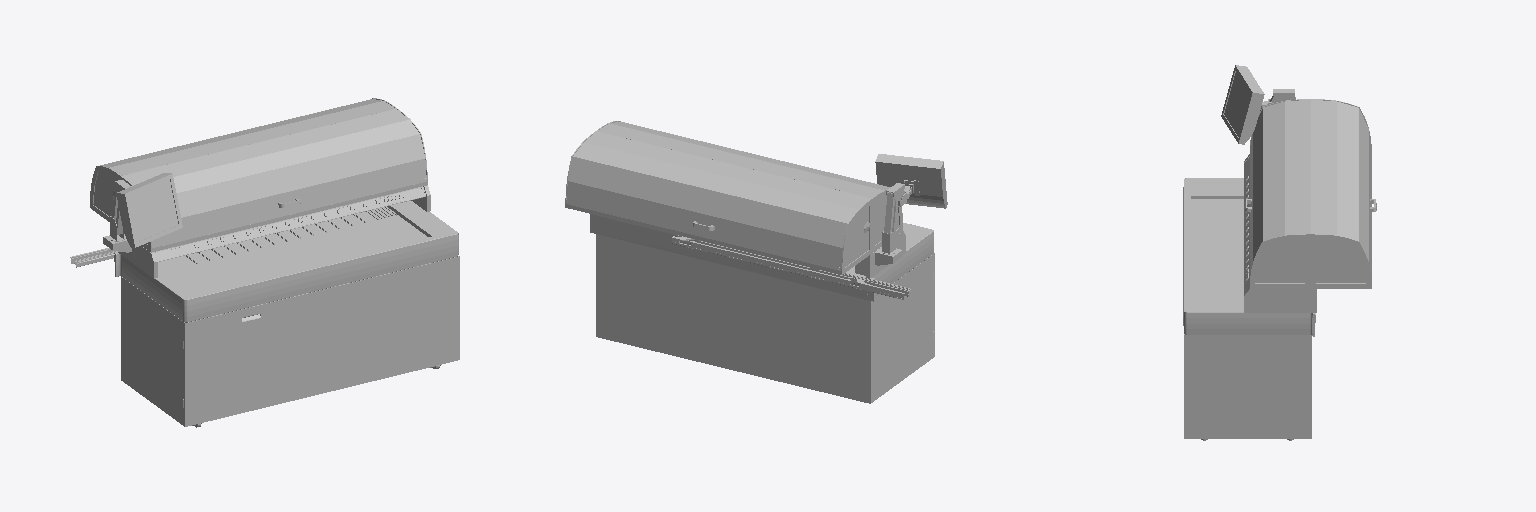
Rendered from Input Output.obj.
The picture shows the model from 3 angles: view 1: azimuth 30°, elevation 25°; view 2: azimuth 150°, elevation 25°; view 3: azimuth 270°, elevation 25°; orthographic projection.
Visible parts, largest first — view 1: object12, object10, object20, object18, object21, object11, object13; view 2: object10, object21, object12, object22, object11, object20; view 3: object12, object10, object20, object11, object18.
Boxes of the visible parts, x1,y1,x2,y2 form: object12: [103, 173, 459, 426]; object10: [93, 99, 430, 278]; object20: [122, 201, 458, 322]; object18: [129, 179, 178, 241]; object21: [156, 188, 424, 260]; object11: [90, 98, 427, 252]; object13: [185, 194, 439, 427]; object10: [566, 122, 905, 278]; object21: [599, 235, 866, 402]; object12: [590, 154, 947, 403]; object22: [672, 235, 910, 299]; object11: [565, 121, 902, 274]; object20: [872, 223, 933, 295]; object12: [1184, 65, 1315, 438]; object10: [1244, 100, 1371, 312]; object20: [1183, 178, 1309, 334]; object11: [1250, 99, 1371, 288]; object18: [1224, 73, 1249, 136].
Size of the model in its own units: 98.19 by 67.93 by 51.22.